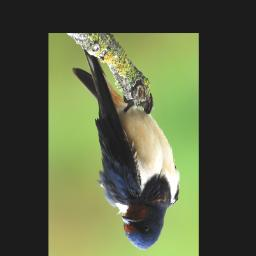Swallow: (71, 46, 181, 251)
